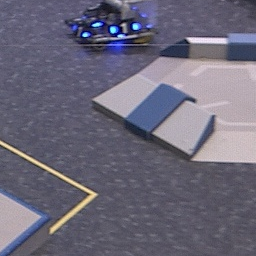Blue: (111, 20, 138, 36), (72, 23, 86, 41)
Robot: (63, 1, 161, 48)
